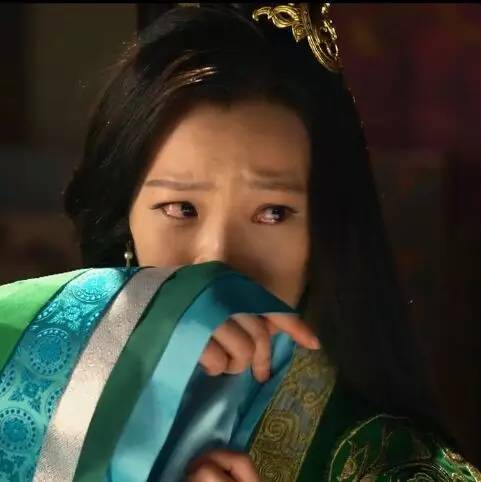face_mask: (132, 105, 314, 370)
